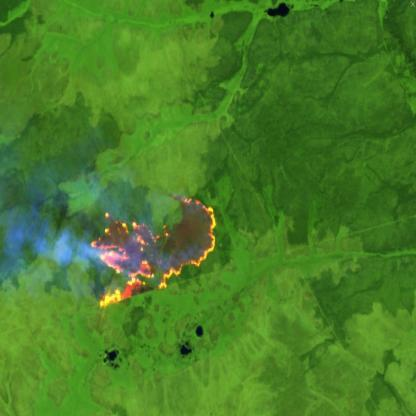fire: (88, 193, 221, 309)
